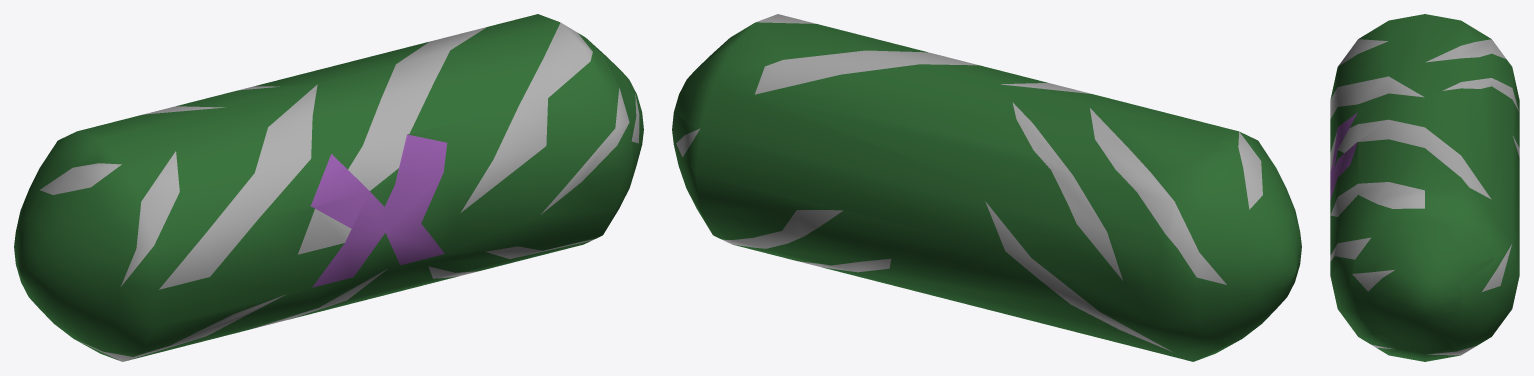
File: XP_Pickup.fbx
The picture shows the model from 3 angles, left to right: view 1: azimuth 30°, elevation 25°; view 2: azimuth 150°, elevation 25°; view 3: azimuth 270°, elevation 25°; orthographic projection. The views are drawn at different scales.
Parts seen in each view (by area): view 1: XP; view 2: XP; view 3: XP.
Boxes of the visible parts, bbox=[...] form: XP: bbox=[14, 14, 643, 361]; XP: bbox=[672, 14, 1301, 361]; XP: bbox=[1330, 14, 1519, 361].
Size of the model in its own units: 0.0385 by 0.013 by 0.0127.
